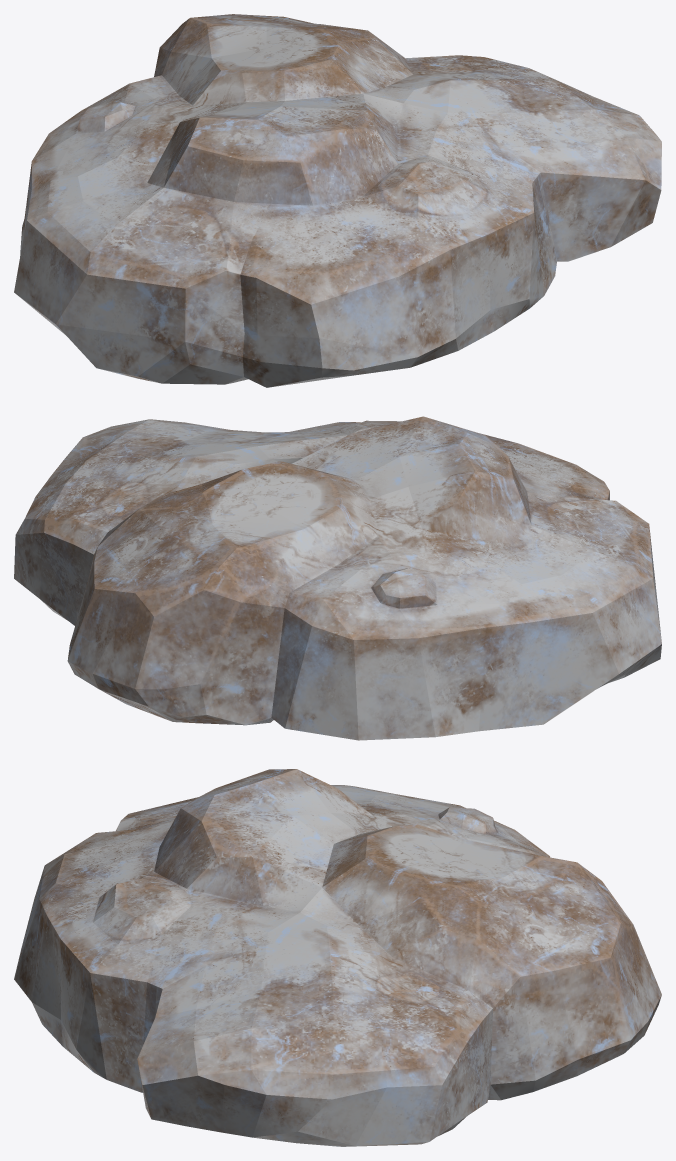
Rendered from sb_obj_nature007_Rock02f.fbx.
3 renders of one model, top to bottom at view 1: azimuth 30°, elevation 25°; view 2: azimuth 150°, elevation 25°; view 3: azimuth 270°, elevation 25°, orthographic. The views are drawn at different scales.
Visible parts, largest first — view 1: sb_obj_nature007_Rock02f; view 2: sb_obj_nature007_Rock02f; view 3: sb_obj_nature007_Rock02f.
Part boxes in pixels (x1=…): sb_obj_nature007_Rock02f: x1=14, y1=14, x2=661, y2=387; sb_obj_nature007_Rock02f: x1=14, y1=416, x2=661, y2=740; sb_obj_nature007_Rock02f: x1=14, y1=769, x2=661, y2=1146.
Bounding box in the file's own units: 4.46 × 1.54 × 4.03.
